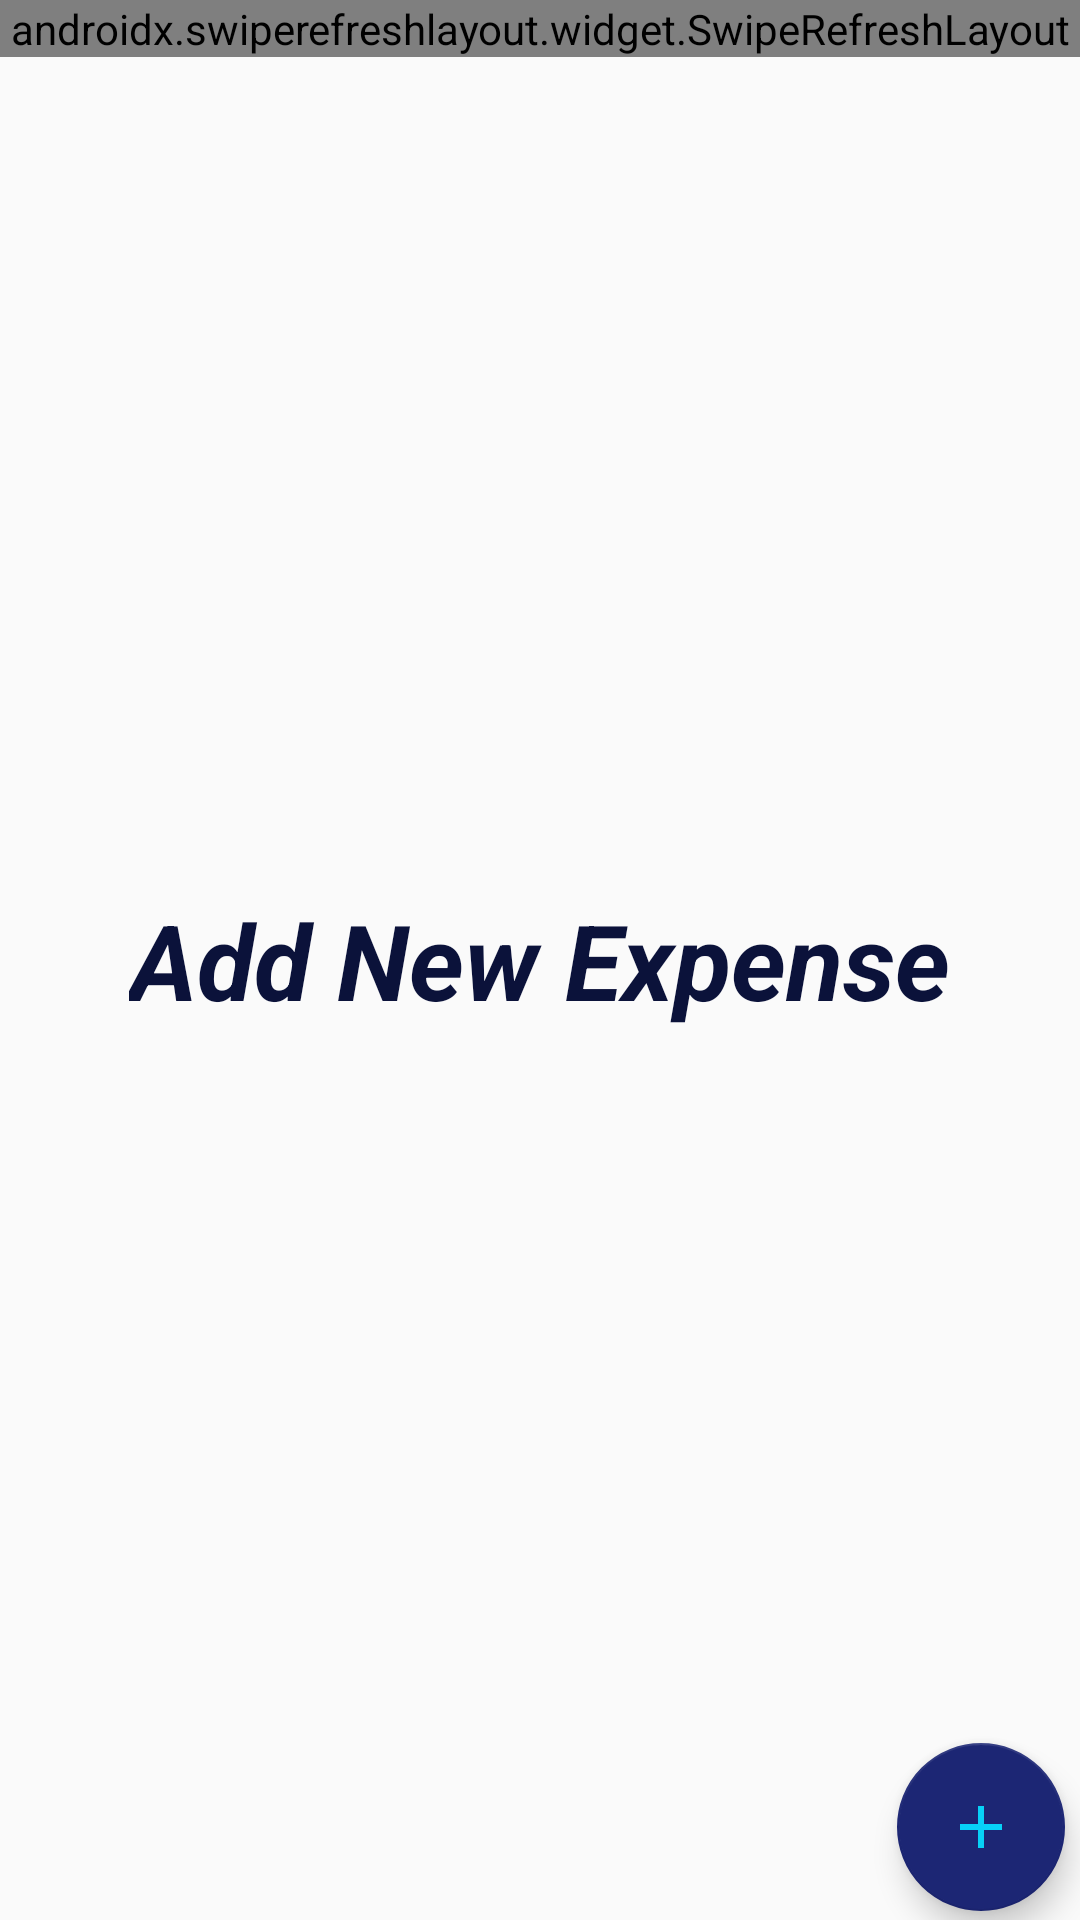

Icon bounding boxes for this 1080px×1920px phone screenshot, format (x1, y1, x2, y2):
add: (897, 1743, 1065, 1911)
